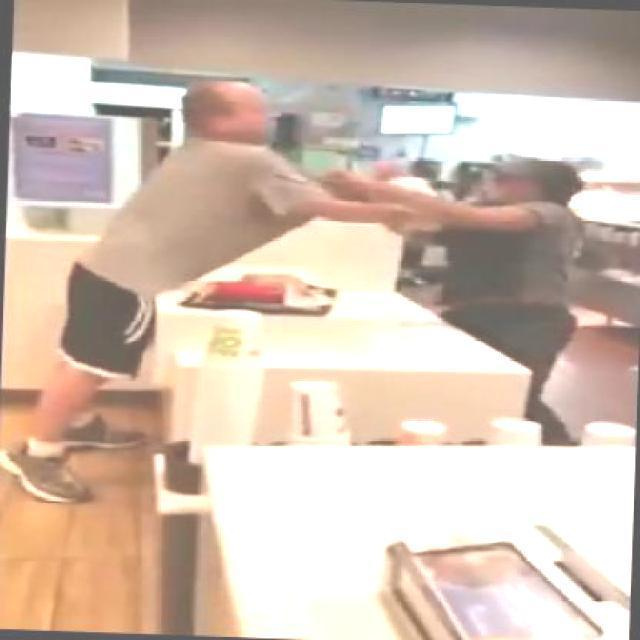fight: (99, 77, 584, 314)
